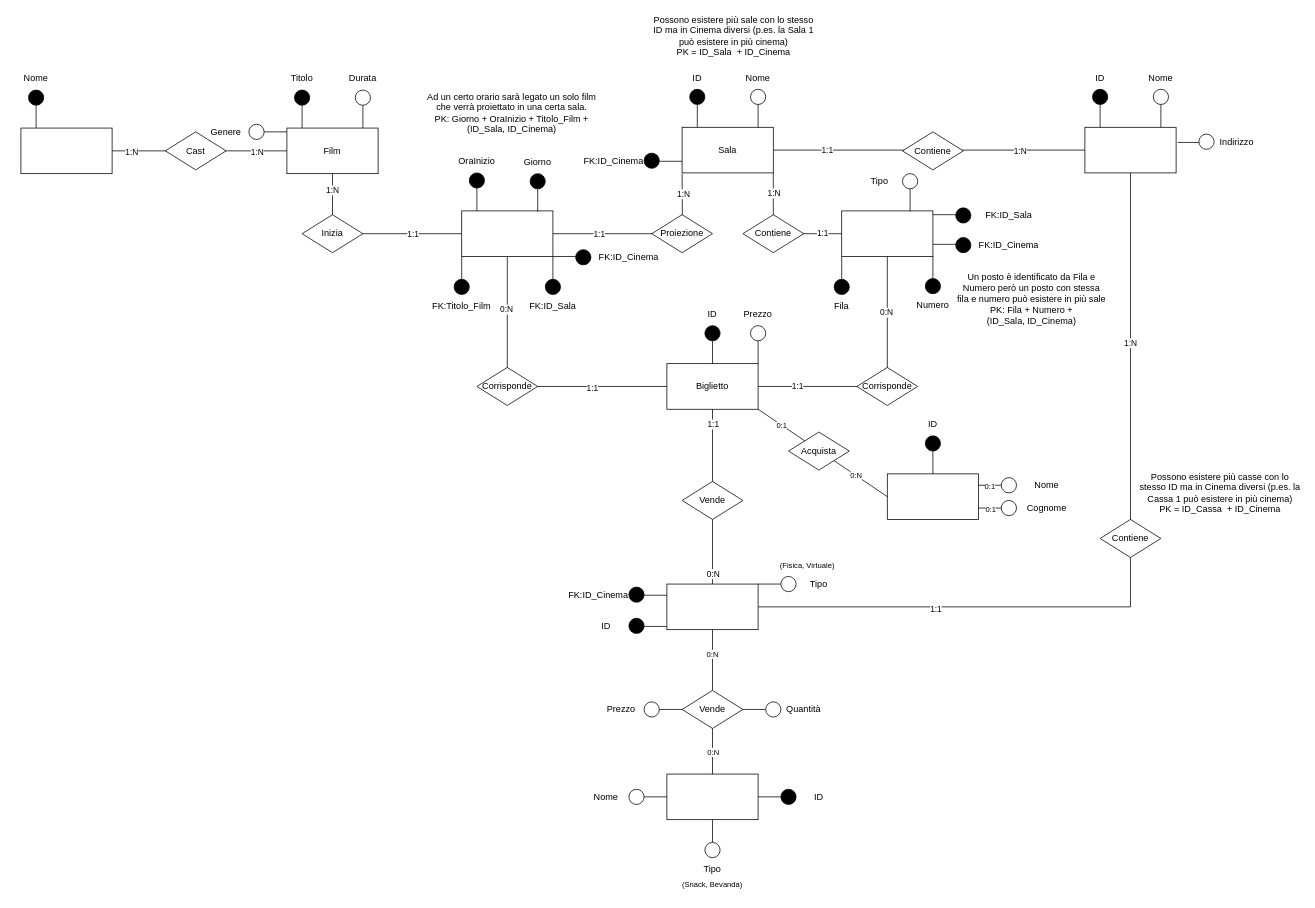
Some shapes in this 1315 by 908 pixel diagram are drawn without their labels. Each missing label, with the box of its shape:
Attore: (20, 127, 112, 174)
Cassa: (666, 583, 758, 630)
Cinema: (1084, 127, 1176, 173)
Orario: (461, 210, 553, 256)
Posto: (841, 210, 933, 256)
Prodotto: (666, 773, 758, 820)
Utente: (887, 473, 978, 519)
